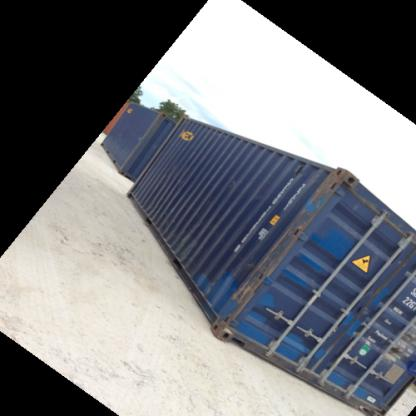Damage: (271, 180, 336, 248), (228, 246, 282, 301)
